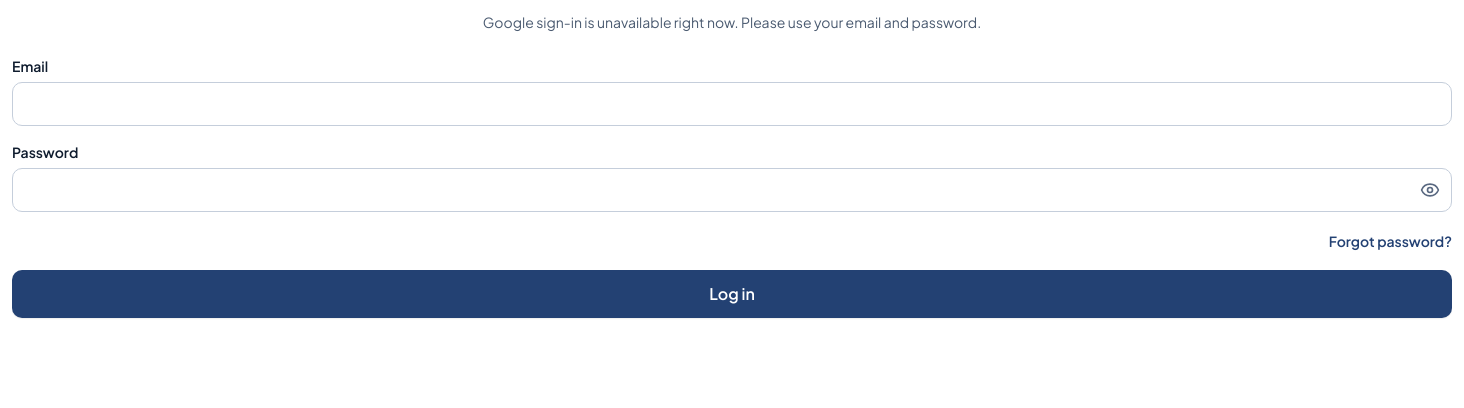
Test: LoginForm › explains rate limiting
This screenshot has width=1464, height=408.
In the field labelled "Email": (732, 104) [12,82,1452,126], type "a@example.com"
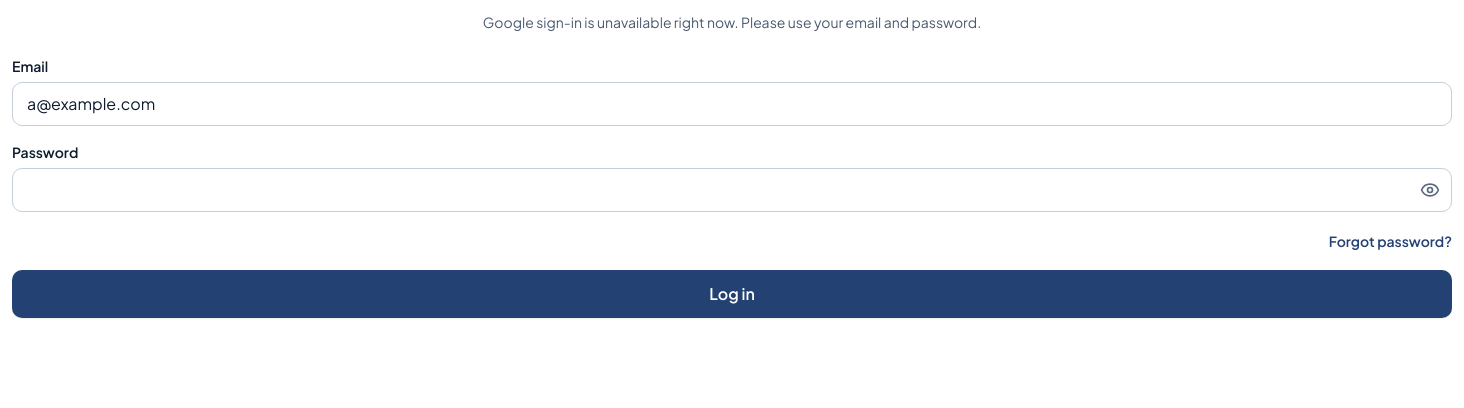
In the password field labelled "Password": (732, 190) [12,168,1452,212], type "wrong-password"
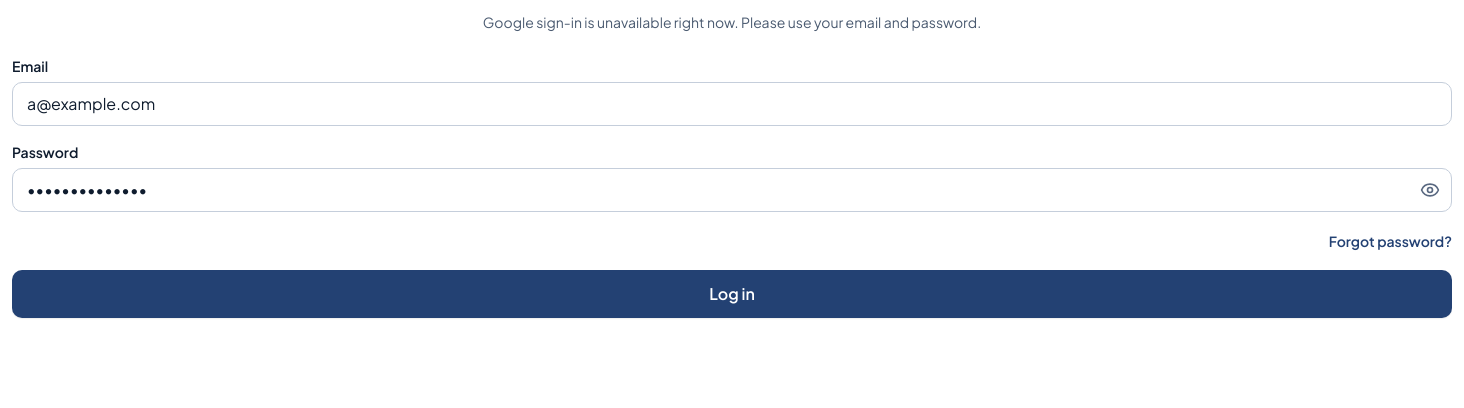
Click the button "Log in": (732, 294) [12,270,1452,318]
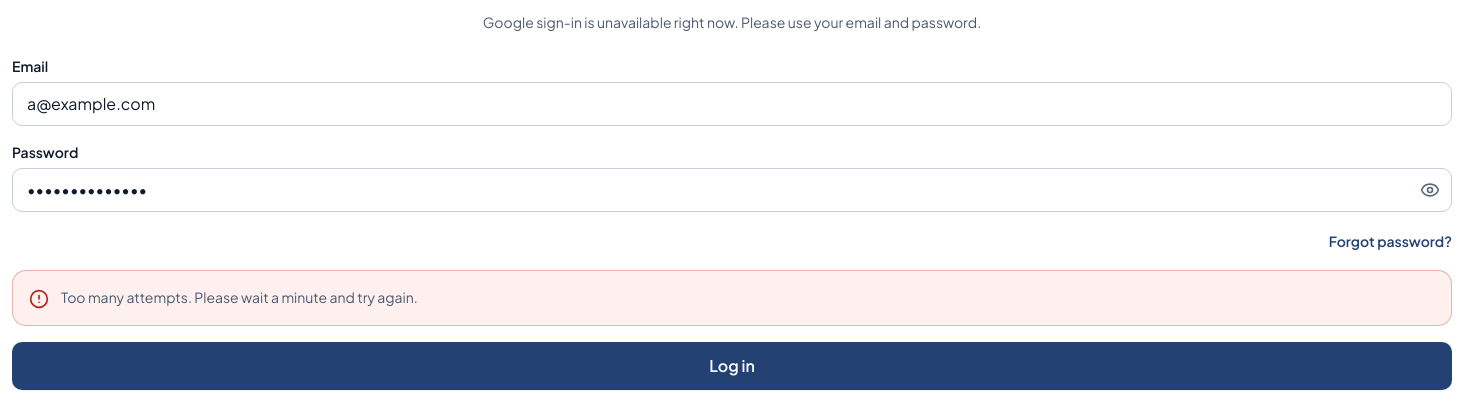
Expected: the text "Too many attempts. Please wait a minute and try again." is shown, [61,287,418,307]
